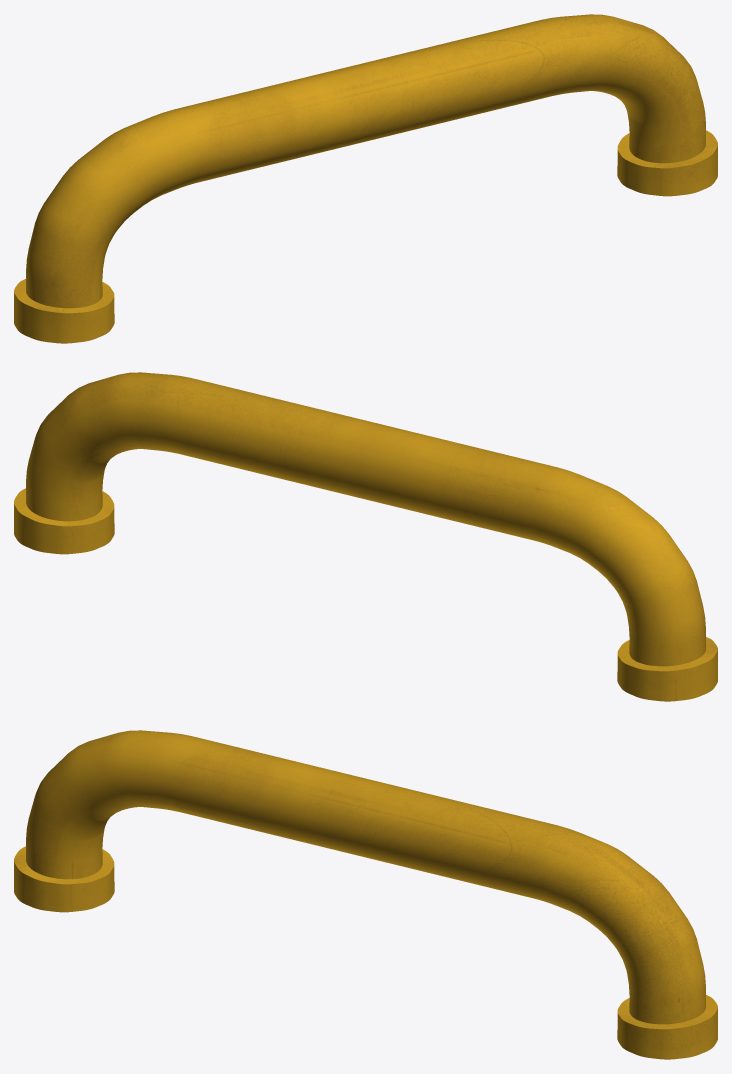
Rendered from MDL_HandleBar.fbx.
The picture shows the model from 3 angles, top to bottom: view 1: azimuth 30°, elevation 25°; view 2: azimuth 150°, elevation 25°; view 3: azimuth 330°, elevation 25°; orthographic projection.
Visible parts, largest first — view 1: Plane; view 2: Plane; view 3: Plane.
Part boxes in pixels (bbox=[...]): Plane: bbox=[14, 14, 717, 343]; Plane: bbox=[14, 372, 717, 701]; Plane: bbox=[14, 730, 717, 1059].
Size of the model in its own units: 50.17 by 12.58 by 6.33.
1 material, 1 textured.
